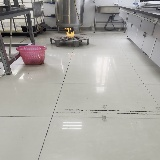fire: (64, 28, 74, 38)
